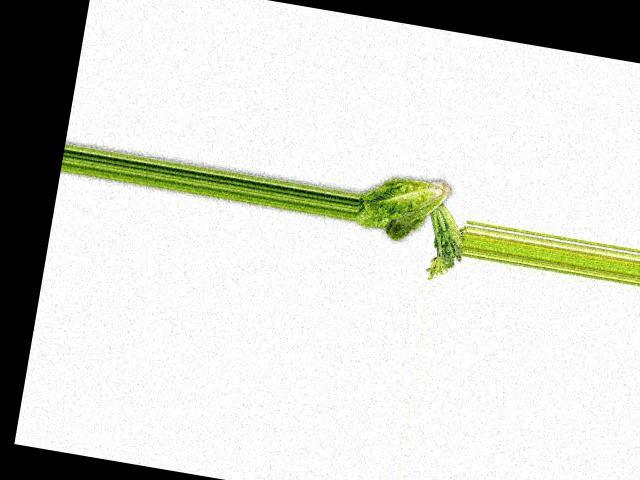lettuce: (351, 171, 456, 256)
